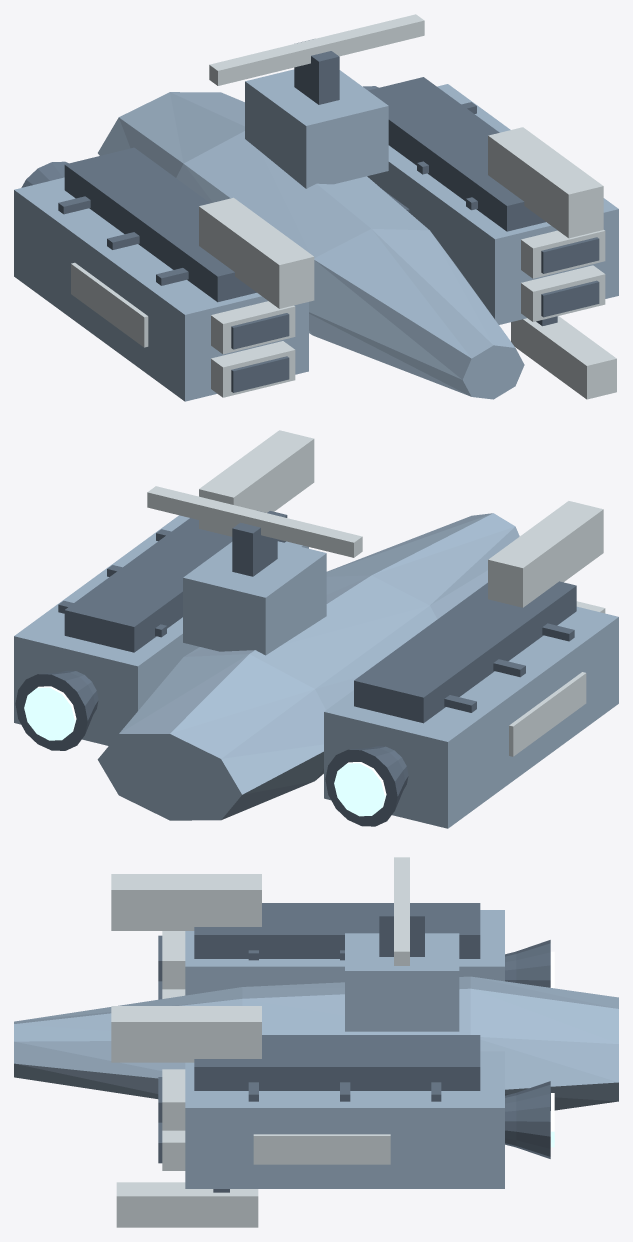
3 views of the same model, one above another, from view 1: azimuth 30°, elevation 25°; view 2: azimuth 150°, elevation 25°; view 3: azimuth 270°, elevation 25° (orthographic). The views are drawn at different scales.
Size of the model in its own units: 12.67 by 7.5 by 16.07.
